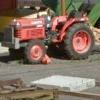Tractor: (6, 5, 92, 68)
